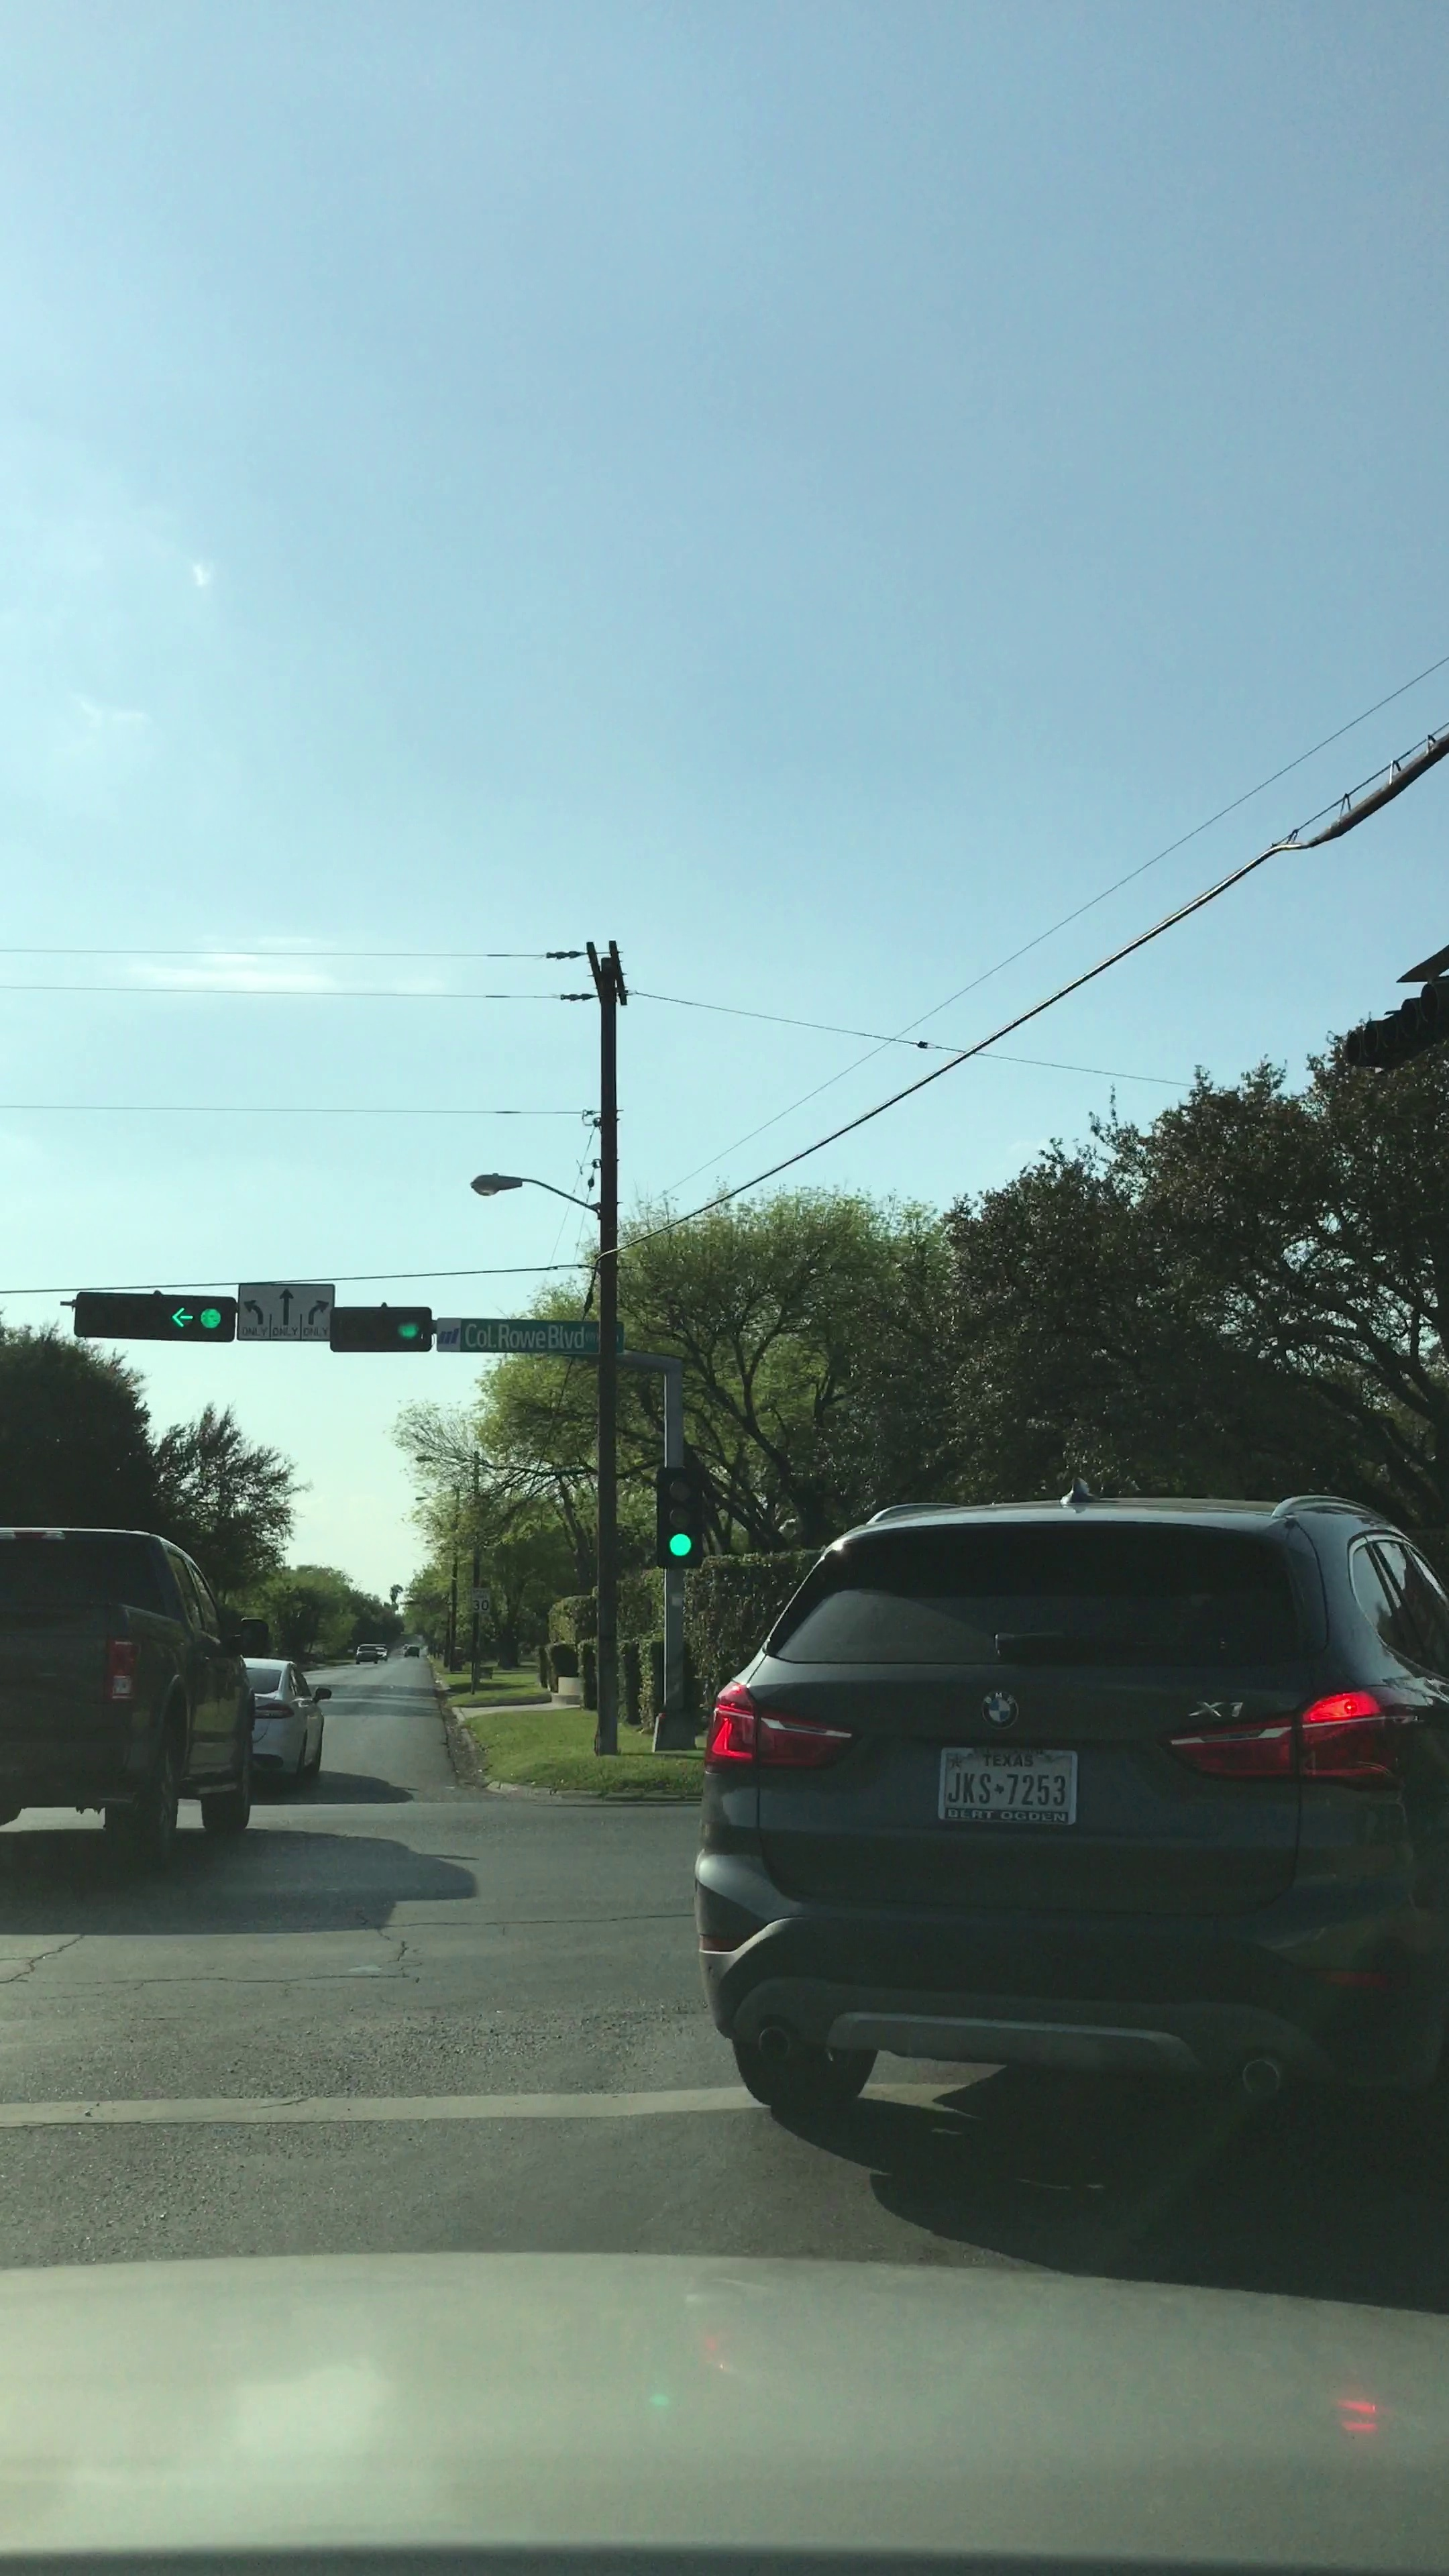crack: (295, 1884, 683, 1948), (7, 1916, 99, 2022)
